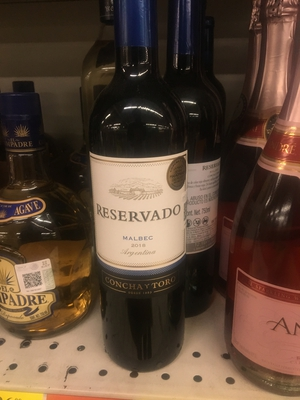reservado malbec: (80, 12, 194, 367)
